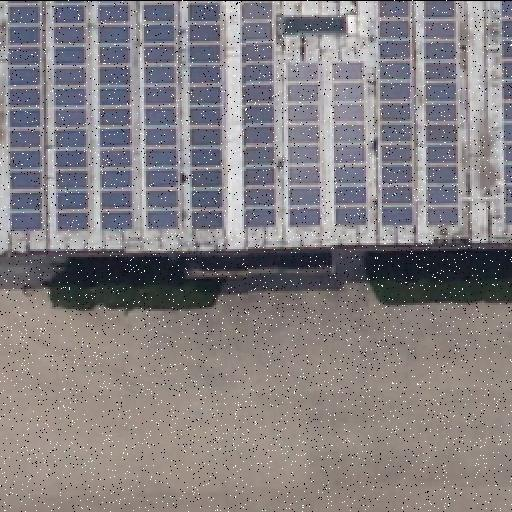solar-panel: (7, 0, 49, 232), (52, 0, 92, 232), (189, 0, 227, 232), (141, 0, 179, 232), (421, 1, 459, 231), (377, 1, 415, 231), (240, 0, 276, 232), (99, 0, 133, 232), (332, 60, 368, 232), (284, 64, 320, 232), (497, 0, 511, 224)
